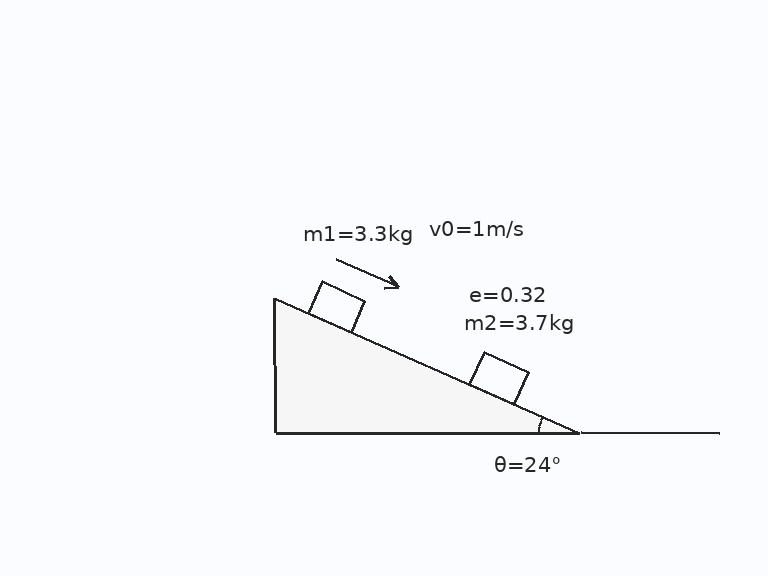block: (467, 350, 530, 406), (306, 279, 366, 333)
ramp: (274, 296, 581, 435)
